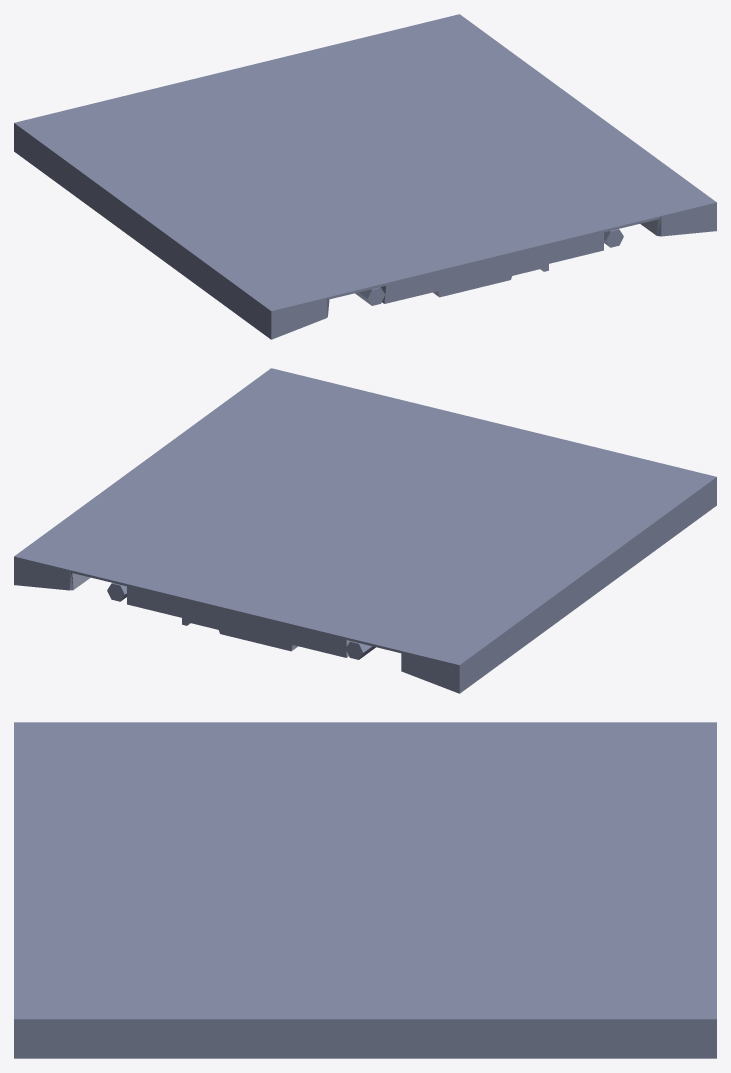
The model's file is Ceiling1.FBX.
3 renders of one model, top to bottom at view 1: azimuth 30°, elevation 25°; view 2: azimuth 150°, elevation 25°; view 3: azimuth 270°, elevation 25°, orthographic. The views are drawn at different scales.
Visible parts, largest first — view 1: Ceiling1; view 2: Ceiling1; view 3: Ceiling1.
Boxes of the visible parts, <box> form: Ceiling1: <box>14,14,716,339</box>; Ceiling1: <box>14,368,716,693</box>; Ceiling1: <box>14,722,716,1058</box>.
Size of the model in its own units: 40.16 by 2.61 by 40.16.
